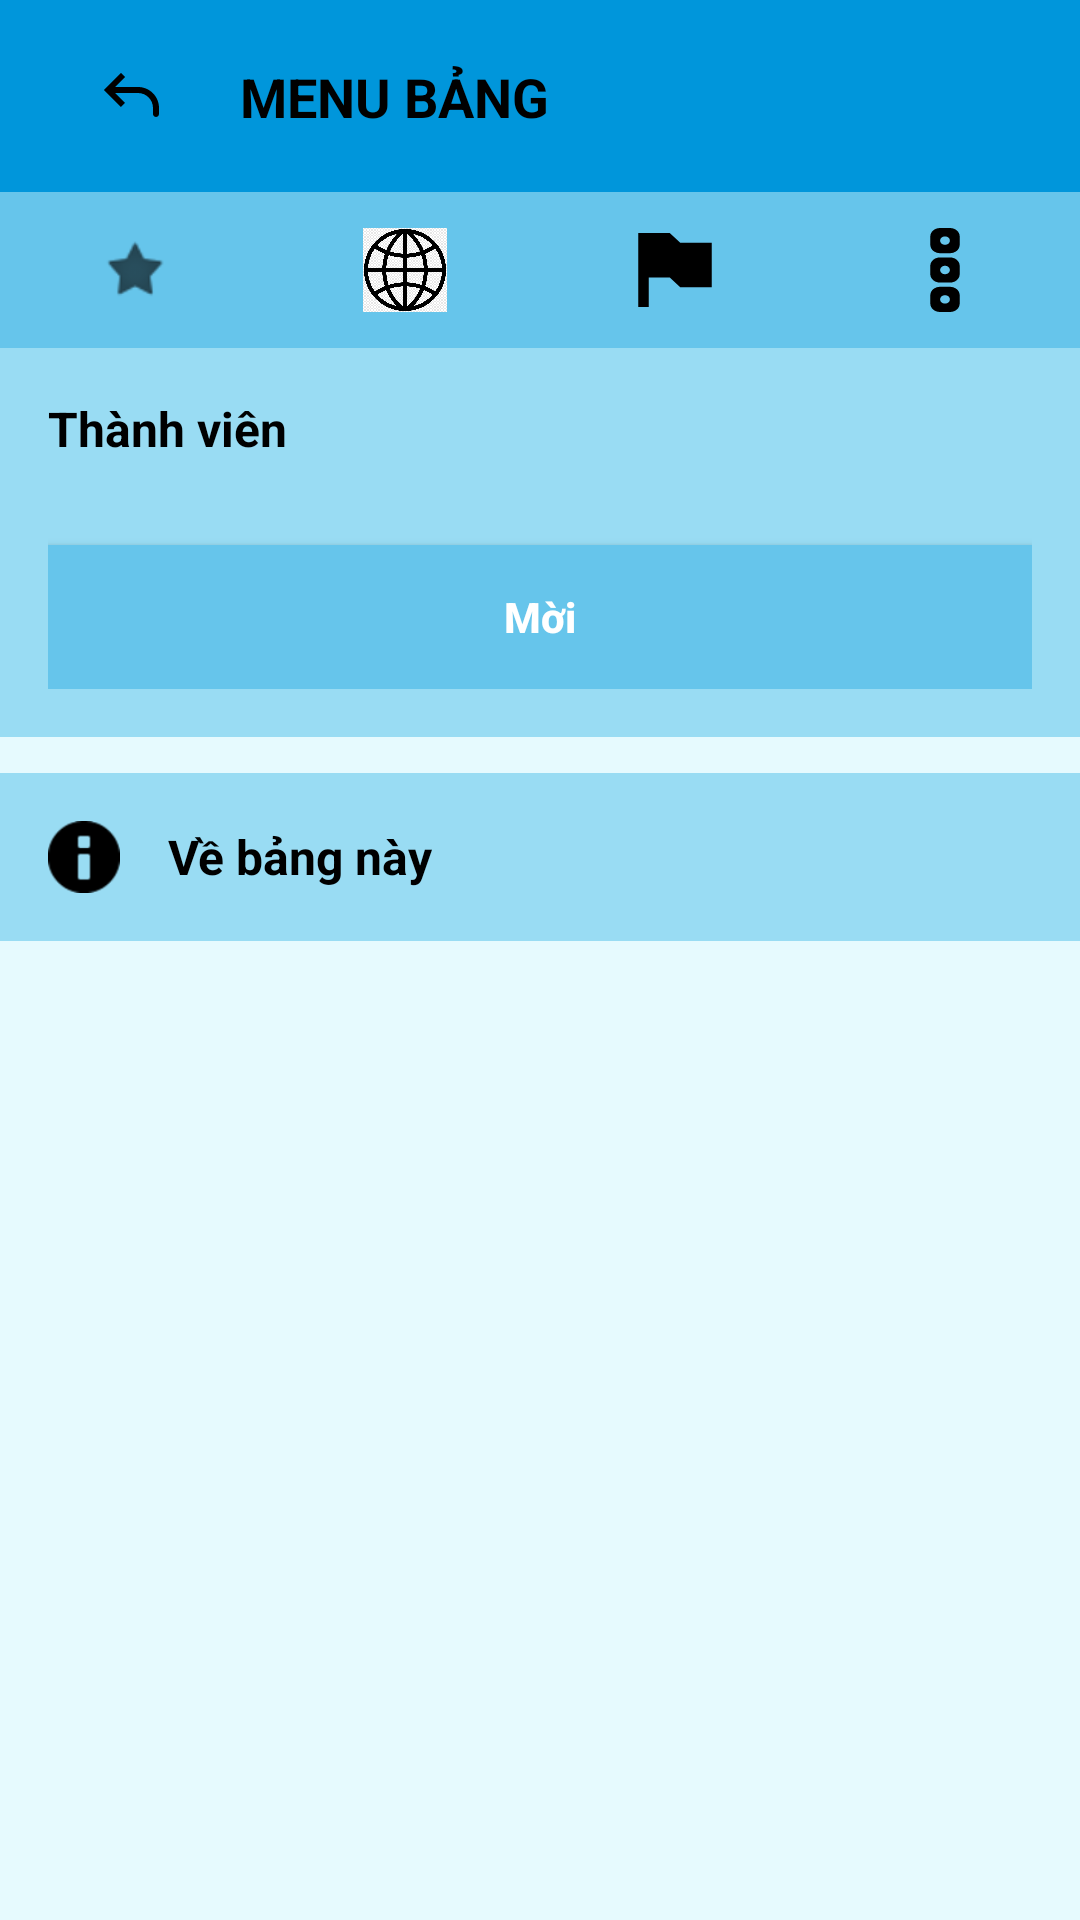

Where to tap for icons on this 1080 × 1920 app screen, as (x,y):
diacau: (405,270)
flag: (675,270)
info: (84,857)
option: (945,270)
quaylai: (131,95)
star off: (135,268)
